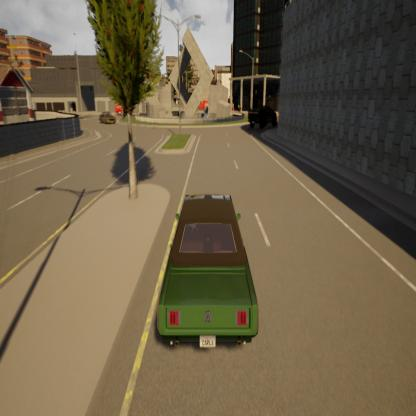Cars: (159, 193, 259, 350), (248, 101, 277, 129), (101, 111, 116, 126), (114, 98, 126, 115)
